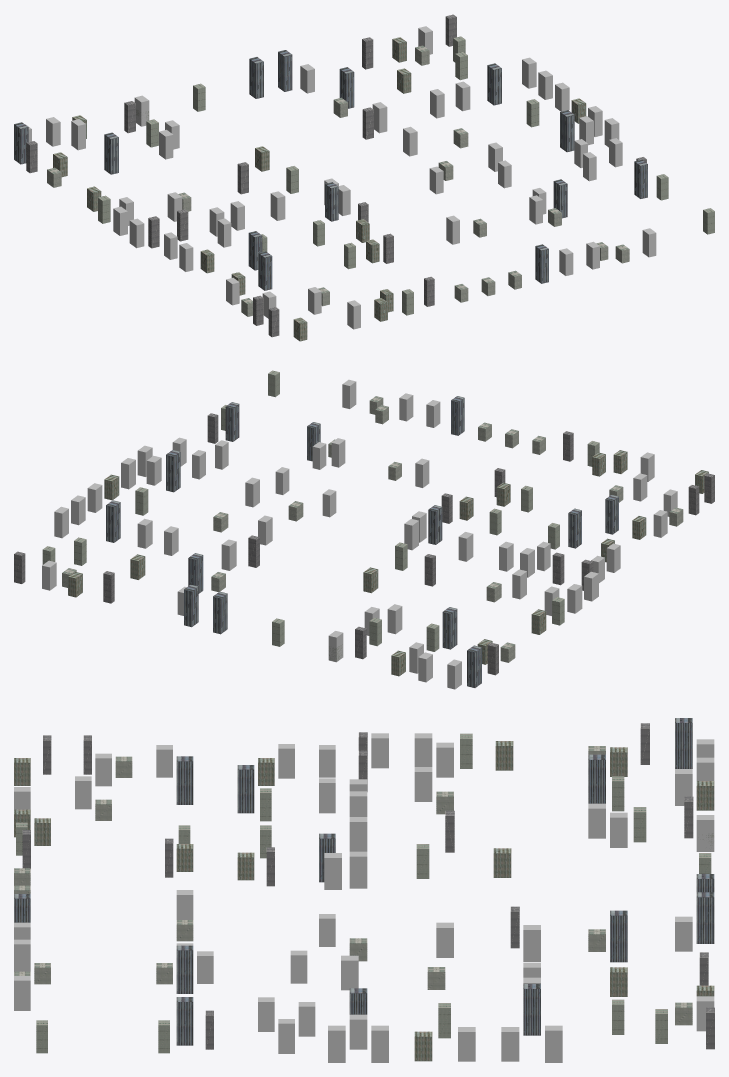
File: batiments3.obj
3 views of the same model, one above another, from view 1: azimuth 30°, elevation 25°; view 2: azimuth 150°, elevation 25°; view 3: azimuth 270°, elevation 25° (orthographic). The views are drawn at different scales.
Visible parts, largest first — view 1: Cube.195_Cube.002; view 2: Cube.195_Cube.002; view 3: Cube.195_Cube.002.
Boxes of the visible parts, bbox=[...] form: Cube.195_Cube.002: bbox=[14, 14, 714, 341]; Cube.195_Cube.002: bbox=[14, 370, 714, 689]; Cube.195_Cube.002: bbox=[14, 718, 714, 1062].
Bounding box in the file's own units: 4062 × 298 × 3998.
